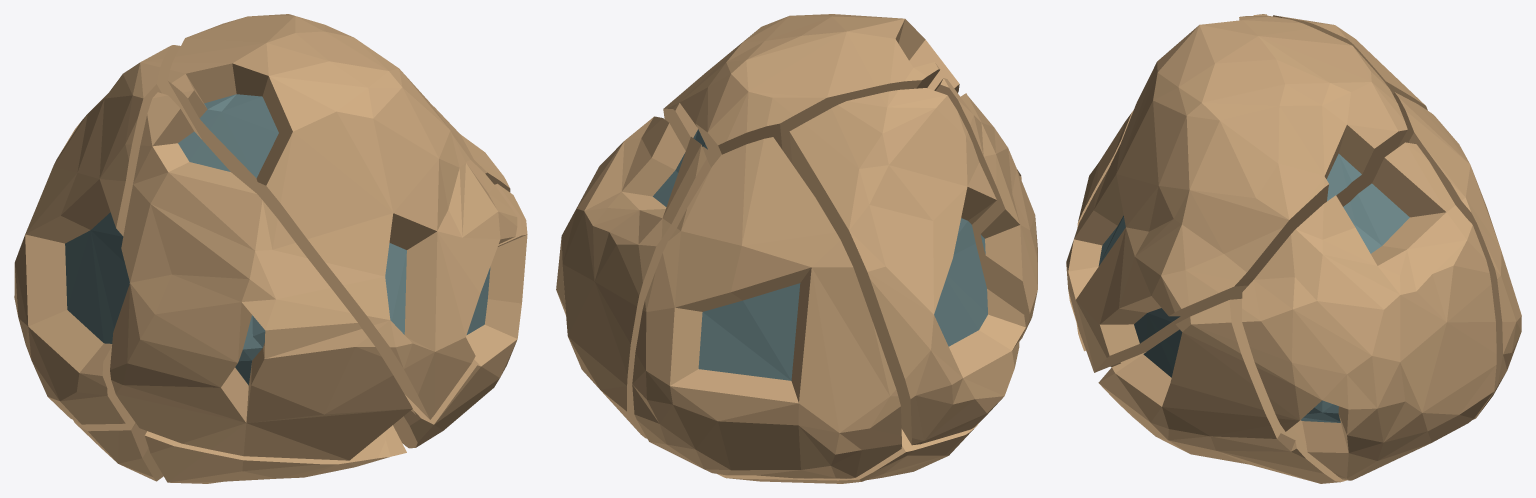
Rendered from SM_LP_MetalNode_2_Pieces.fbx.
3 renders of one model, left to right at view 1: azimuth 30°, elevation 25°; view 2: azimuth 150°, elevation 25°; view 3: azimuth 270°, elevation 25°, orthographic. The views are drawn at different scales.
Visible parts, largest first — view 1: SM_LP_MetalNode_2_Pieces_6, SM_LP_MetalNode_2_Pieces_2, SM_LP_MetalNode_2_Pieces_1, SM_LP_MetalNode_2_Pieces_8, SM_LP_MetalNode_2_Pieces_5, SM_LP_MetalNode_2_Pieces_3, SM_LP_MetalNode_2_Pieces_7; view 2: SM_LP_MetalNode_2_Pieces_4, SM_LP_MetalNode_2_Pieces_1, SM_LP_MetalNode_2_Pieces_7, SM_LP_MetalNode_2_Pieces_6, SM_LP_MetalNode_2_Pieces_2, SM_LP_MetalNode_2_Pieces_3; view 3: SM_LP_MetalNode_2_Pieces_6, SM_LP_MetalNode_2_Pieces_7, SM_LP_MetalNode_2_Pieces_8, SM_LP_MetalNode_2_Pieces_4, SM_LP_MetalNode_2_Pieces_1, SM_LP_MetalNode_2_Pieces_2.
Boxes of the visible parts, left/top/right/bottom form: SM_LP_MetalNode_2_Pieces_6: left=167, top=14, right=517, bottom=419; SM_LP_MetalNode_2_Pieces_2: left=110, top=92, right=415, bottom=460; SM_LP_MetalNode_2_Pieces_1: left=14, top=45, right=201, bottom=424; SM_LP_MetalNode_2_Pieces_8: left=393, top=183, right=527, bottom=448; SM_LP_MetalNode_2_Pieces_5: left=145, top=425, right=406, bottom=483; SM_LP_MetalNode_2_Pieces_3: left=73, top=416, right=163, bottom=481; SM_LP_MetalNode_2_Pieces_7: left=431, top=104, right=510, bottom=192; SM_LP_MetalNode_2_Pieces_4: left=632, top=137, right=901, bottom=478; SM_LP_MetalNode_2_Pieces_1: left=789, top=88, right=1025, bottom=445; SM_LP_MetalNode_2_Pieces_7: left=556, top=116, right=710, bottom=438; SM_LP_MetalNode_2_Pieces_6: left=663, top=14, right=959, bottom=167; SM_LP_MetalNode_2_Pieces_2: left=934, top=78, right=1037, bottom=340; SM_LP_MetalNode_2_Pieces_3: left=717, top=424, right=977, bottom=483; SM_LP_MetalNode_2_Pieces_6: left=1066, top=15, right=1407, bottom=372; SM_LP_MetalNode_2_Pieces_7: left=1242, top=142, right=1496, bottom=480; SM_LP_MetalNode_2_Pieces_8: left=1098, top=298, right=1346, bottom=483; SM_LP_MetalNode_2_Pieces_4: left=1393, top=92, right=1521, bottom=419; SM_LP_MetalNode_2_Pieces_1: left=1273, top=15, right=1427, bottom=110; SM_LP_MetalNode_2_Pieces_2: left=1076, top=14, right=1267, bottom=367.
Size of the model in its own units: 0.8616 by 0.8 by 0.8331.
